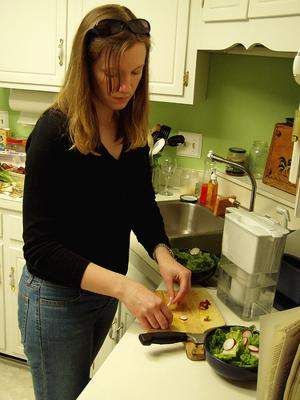person: (15, 3, 193, 400)
